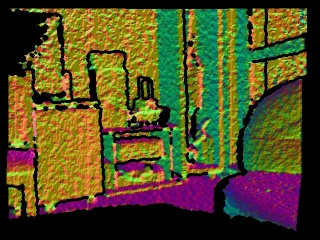station: (133, 76, 158, 109)
